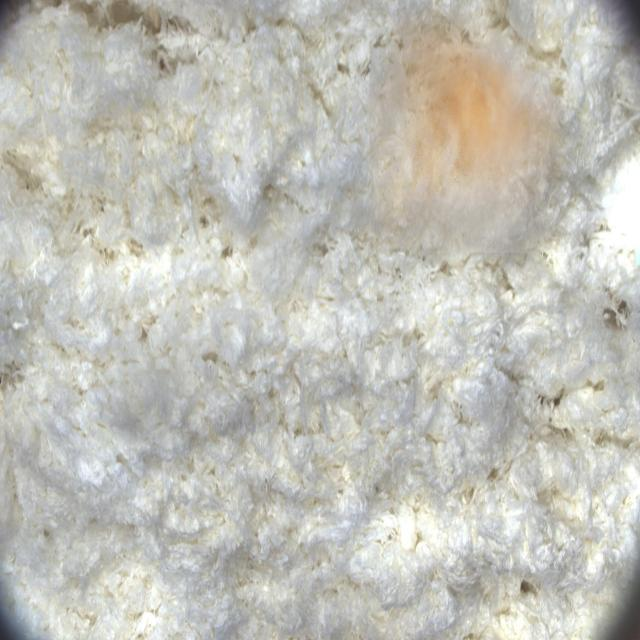dust: (370, 3, 570, 253)
